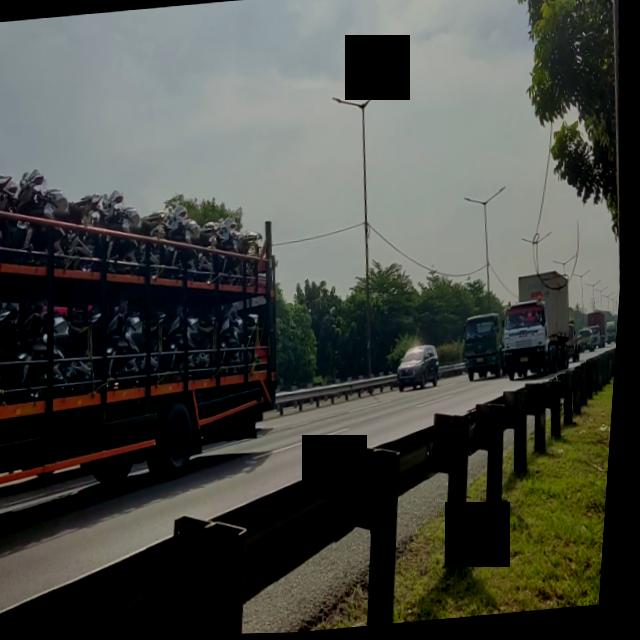Golongan I: (398, 342, 449, 399)
